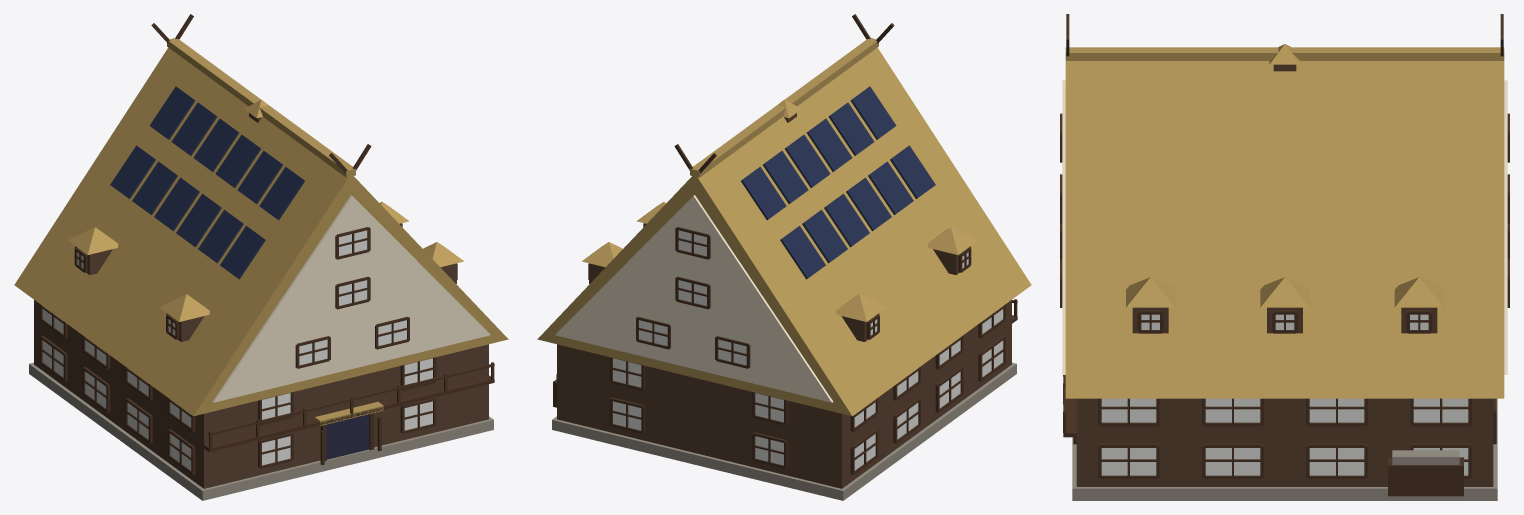
Rendered from house-2x2-4f-gassho-a-solar.glb.
3 views of the same model, side by side, from view 1: azimuth 30°, elevation 25°; view 2: azimuth 150°, elevation 25°; view 3: azimuth 270°, elevation 25° (orthographic). The views are drawn at different scales.
Visible parts, largest first — view 1: house-2x2-4f-gassho-a-solar; view 2: house-2x2-4f-gassho-a-solar; view 3: house-2x2-4f-gassho-a-solar.
Boxes of the visible parts, left/top/right/bottom form: house-2x2-4f-gassho-a-solar: left=14, top=14, right=508, bottom=500; house-2x2-4f-gassho-a-solar: left=537, top=14, right=1031, bottom=500; house-2x2-4f-gassho-a-solar: left=1060, top=14, right=1509, bottom=500.
Size of the model in its own units: 2 by 1.92 by 2.01.
Materials: 1 (1 with a texture image).
